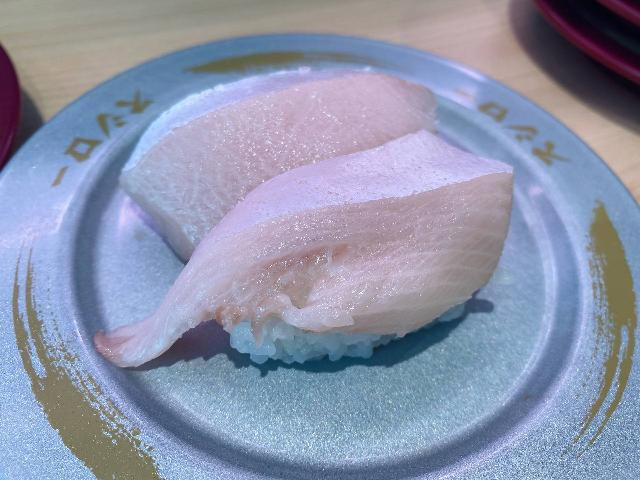janred: (535, 0, 640, 88), (0, 39, 21, 169), (573, 0, 640, 28)
janwhite: (11, 29, 628, 480)
